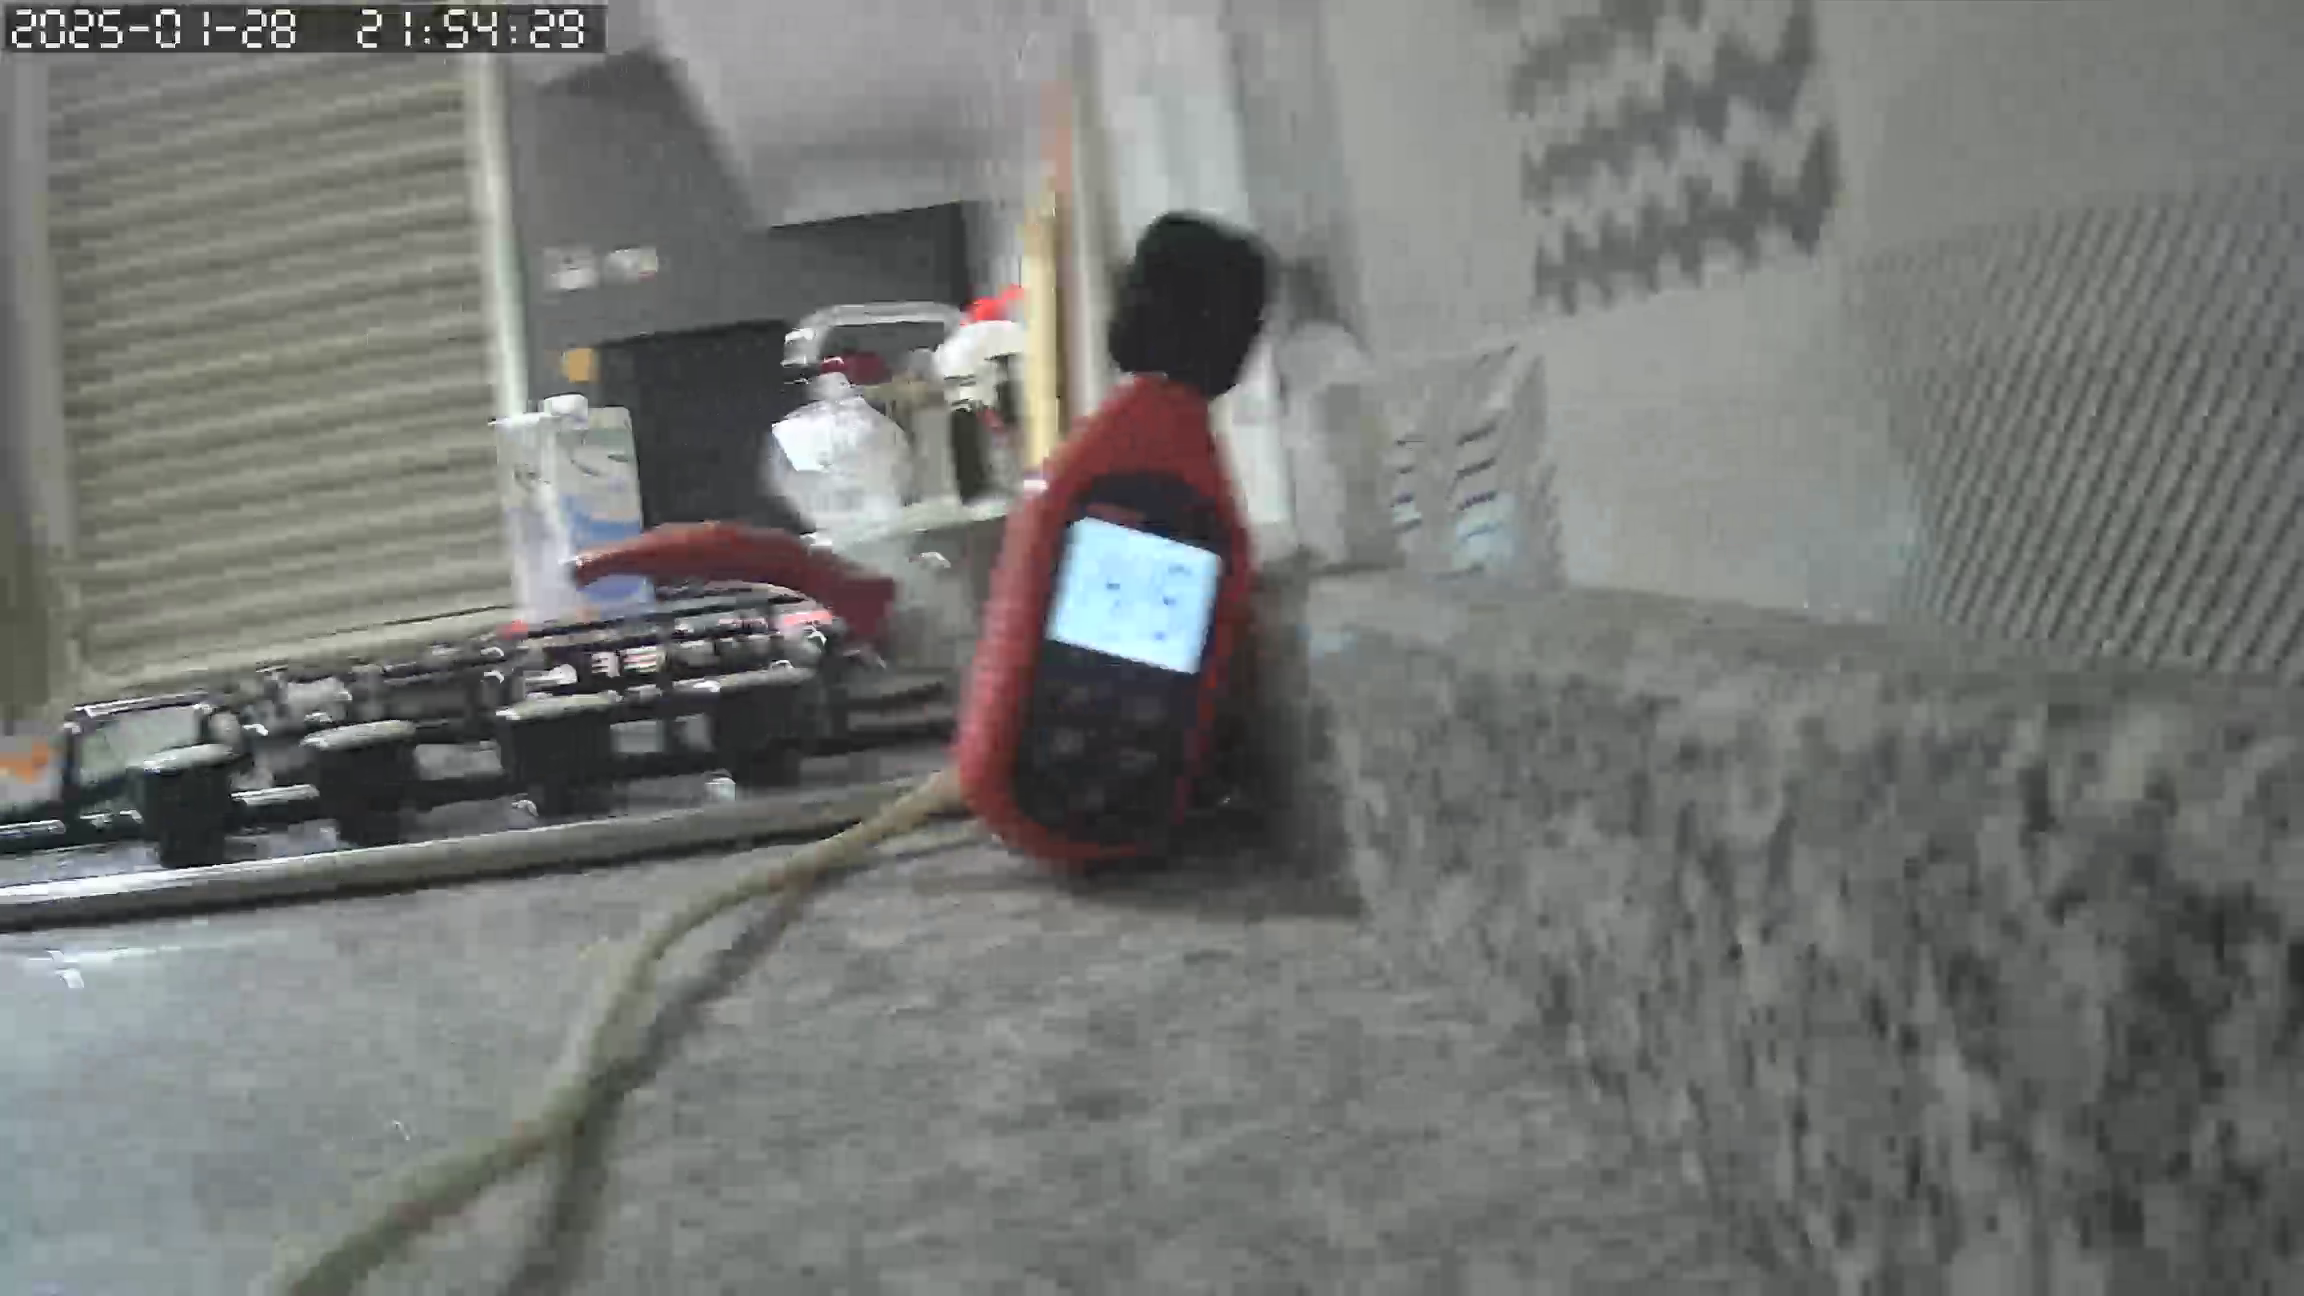screen: (1044, 517, 1226, 676)
